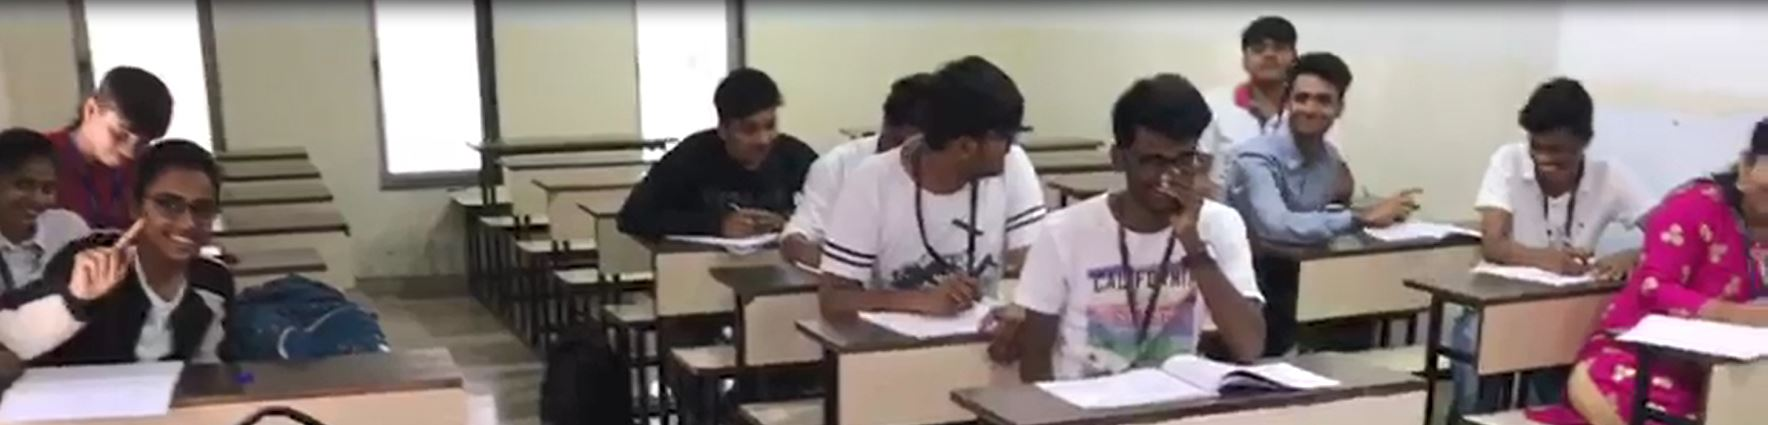gesture: (58, 212, 157, 304)
student: (1544, 63, 1768, 415), (1476, 70, 1642, 282), (55, 55, 176, 180), (1231, 9, 1310, 104)
studentcopying: (984, 89, 1257, 349), (808, 38, 1060, 317), (9, 130, 261, 378), (619, 62, 833, 249), (1258, 52, 1438, 254), (1156, 165, 1216, 263)
